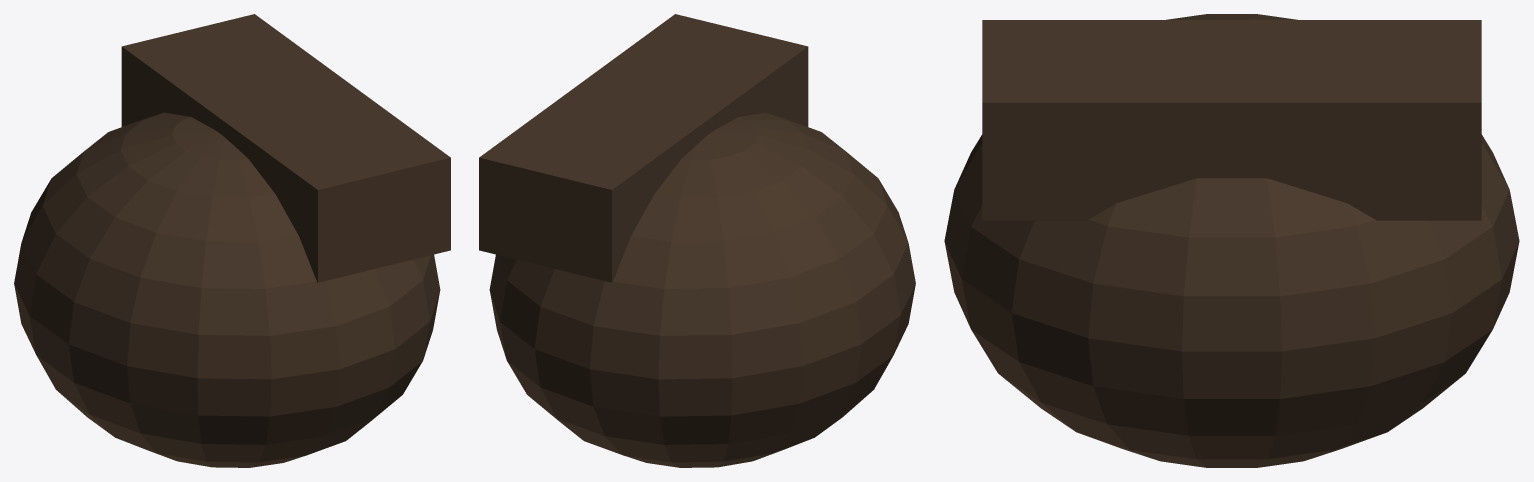
File: SM_Beard.fbx
3 views of the same model, side by side, from view 1: azimuth 30°, elevation 25°; view 2: azimuth 150°, elevation 25°; view 3: azimuth 270°, elevation 25° (orthographic). The views are drawn at different scales.
Parts seen in each view (by area): view 1: SM_Beard; view 2: SM_Beard; view 3: SM_Beard.
Part boxes in pixels (left/top/right/bottom): SM_Beard: left=14, top=14, right=450, bottom=467; SM_Beard: left=479, top=14, right=915, bottom=467; SM_Beard: left=944, top=14, right=1519, bottom=467.
Bounding box in the file's own units: 12.05 × 13.25 × 10.54.
